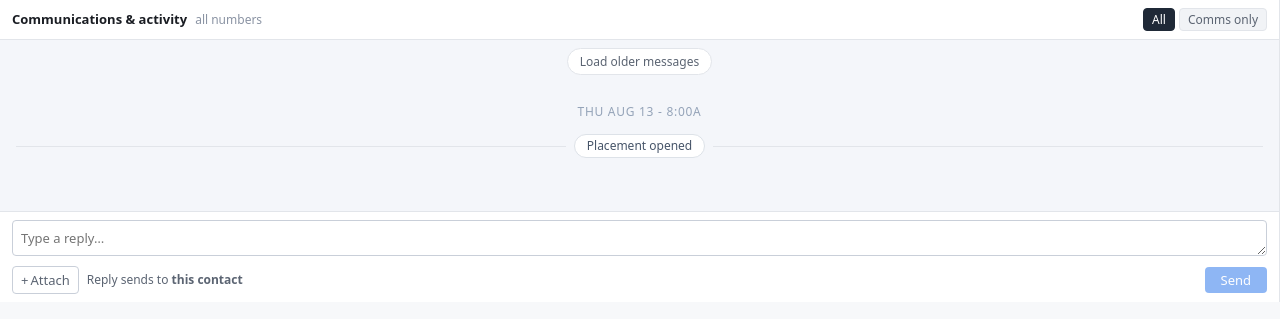
it: Timeline load-older control › stays visible when the stream renders empty
This screenshot has width=1280, height=319.
What coordinates should you click on to do the following:
click the button "Comms only"
I would click on:
 (1223, 20)
Its box is left=1179, top=8, right=1267, bottom=31.
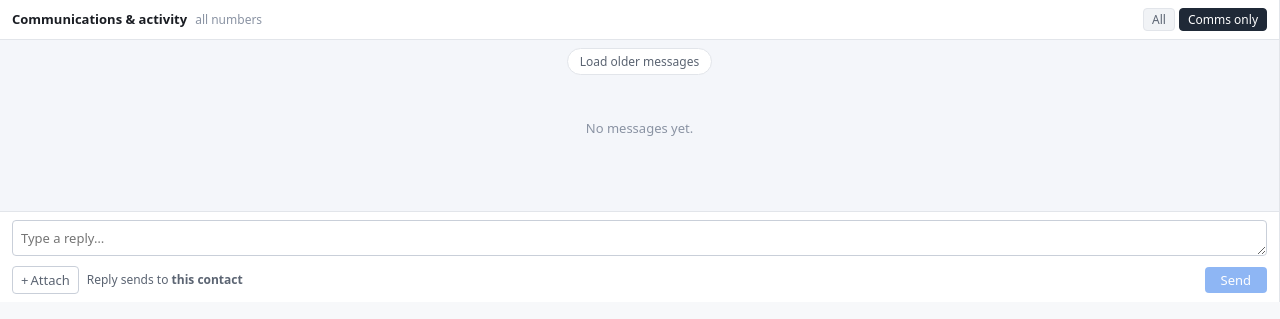
expect the button "Load older messages" is shown: met, box left=567, top=48, right=712, bottom=75
expect the text "No messages yet." is shown: met, box left=586, top=119, right=693, bottom=137
